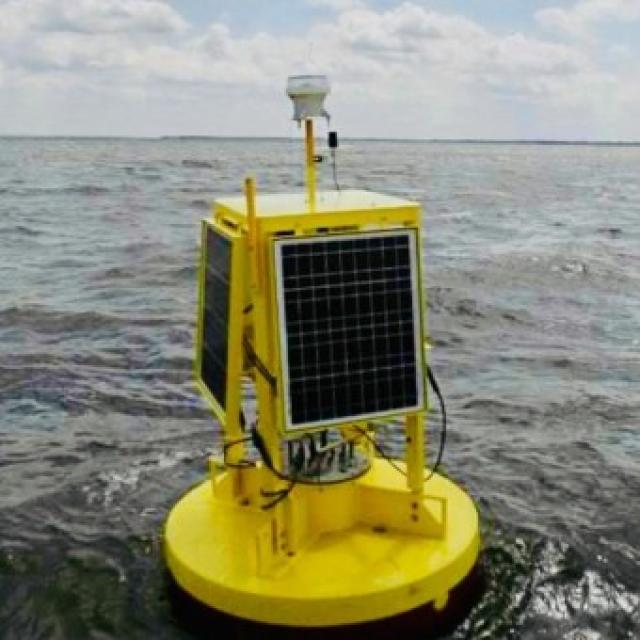marque: (162, 52, 480, 629)
